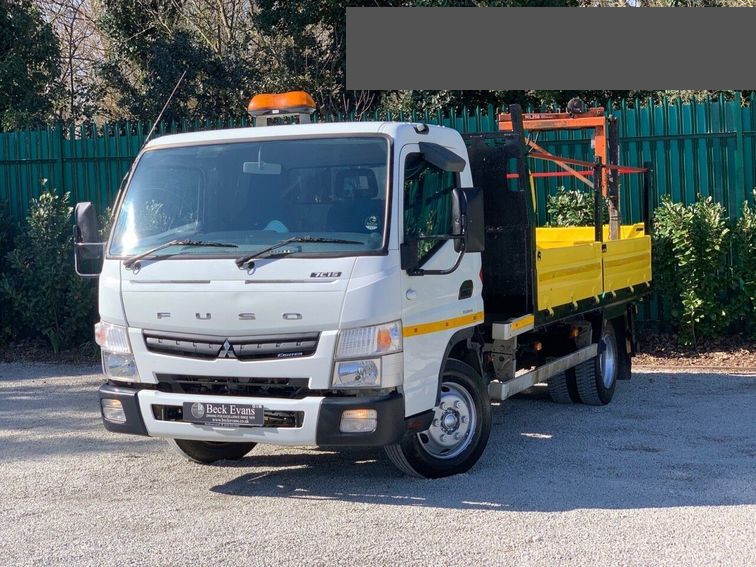Semi: (70, 91, 653, 479)
